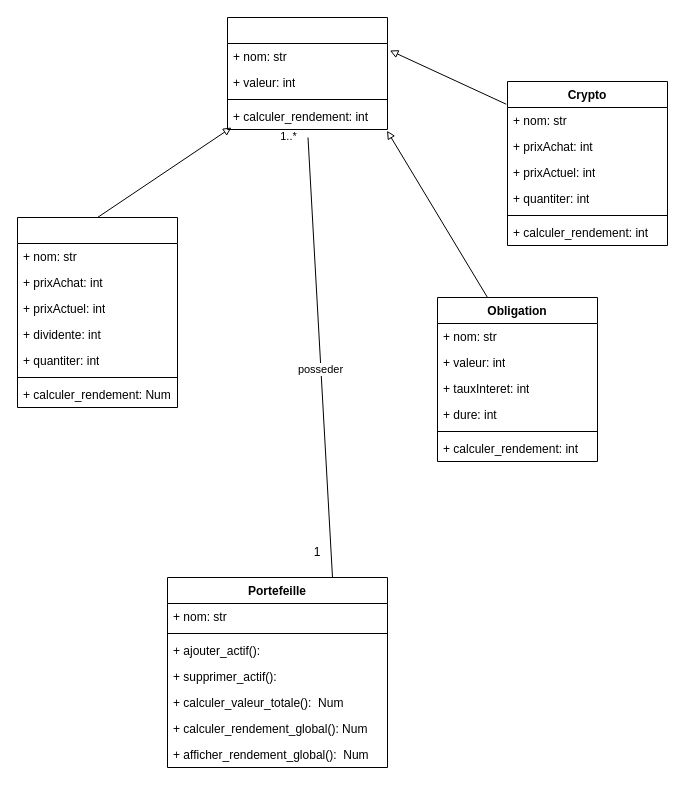
Some shapes in this 685 by 788 pixel diagram are drawn without their labels. Here are the shapes that lost their labels. From the top down, the box of each, then its label:
(226, 16, 388, 130): Actif
(16, 216, 178, 408): Action
